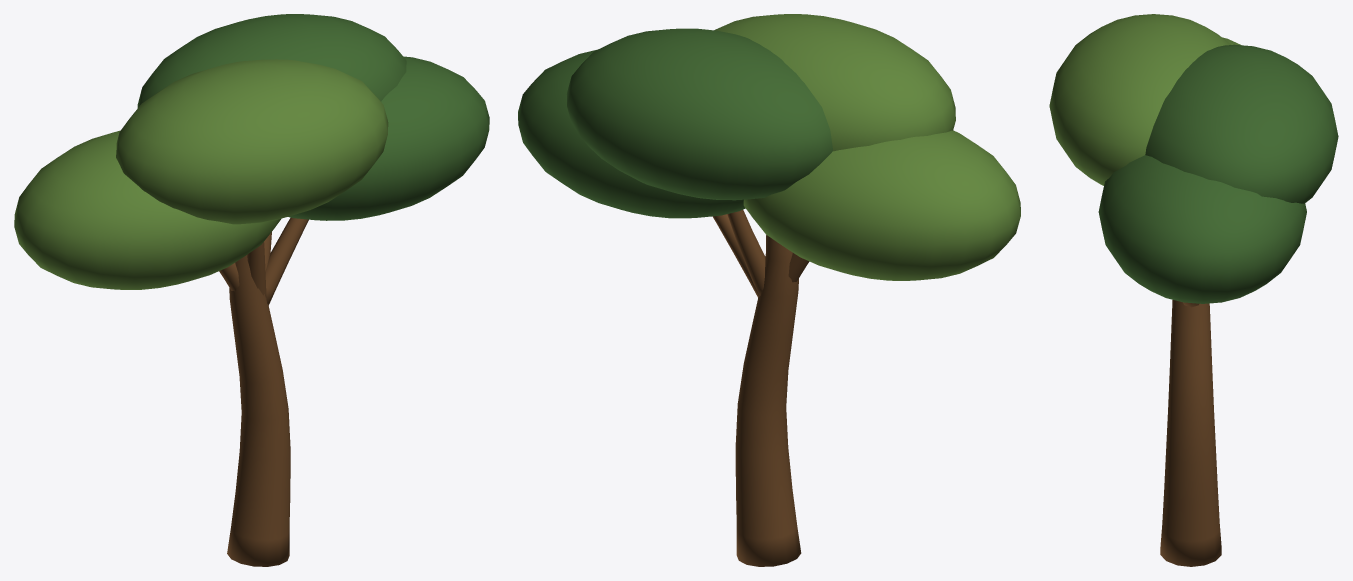
Rendered from umbrella_pine.glb.
3 renders of one model, left to right at view 1: azimuth 30°, elevation 25°; view 2: azimuth 150°, elevation 25°; view 3: azimuth 270°, elevation 25°, orthographic. The views are drawn at different scales.
Visible parts, largest first — view 1: PropGeometryGeometry; view 2: PropGeometryGeometry; view 3: PropGeometryGeometry.
Part boxes in pixels (x1,y1,x2,y2): PropGeometryGeometry: [14, 14, 489, 566]; PropGeometryGeometry: [518, 14, 1020, 566]; PropGeometryGeometry: [1049, 14, 1338, 566].
Size of the model in its own units: 2.72 by 2.82 by 1.47.
